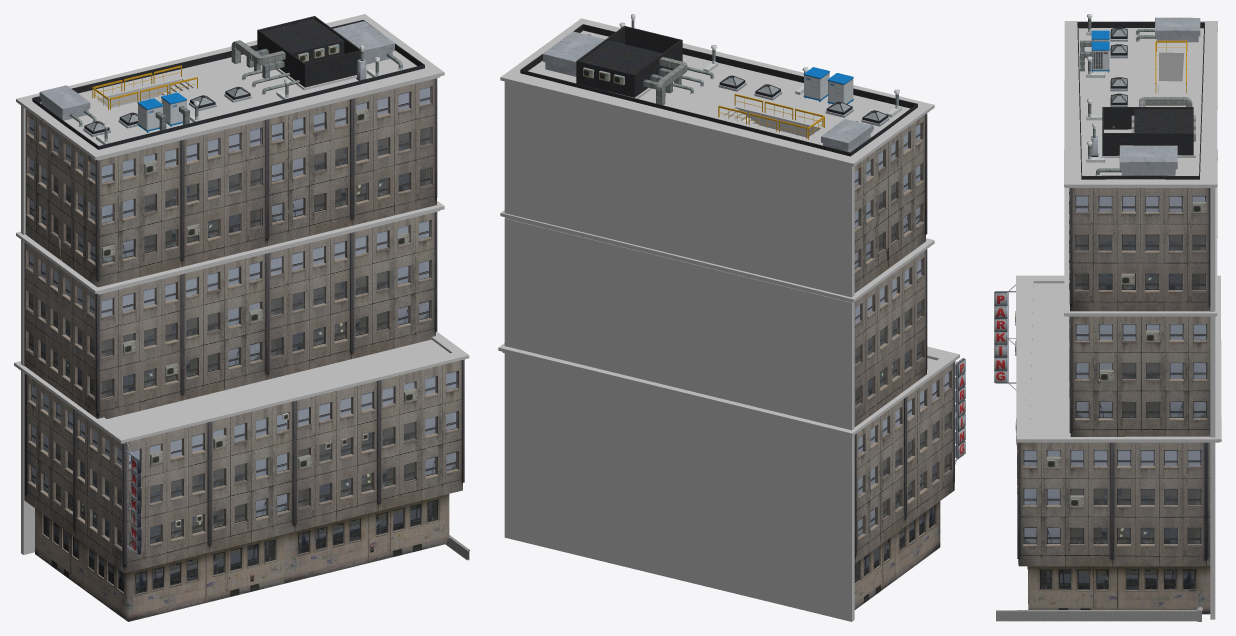
Rendered from u2NWBuild10.gltf.
The picture shows the model from 3 angles, left to right: view 1: azimuth 30°, elevation 25°; view 2: azimuth 150°, elevation 25°; view 3: azimuth 270°, elevation 25°; orthographic projection. The views are drawn at different scales.
Visible parts, largest first — view 1: u2NWBuild10; view 2: u2NWBuild10; view 3: u2NWBuild10.
Boxes of the visible parts, box(x1,y1,x2,y2) form: u2NWBuild10: box(14, 14, 469, 621); u2NWBuild10: box(498, 14, 965, 621); u2NWBuild10: box(994, 14, 1221, 621).
Size of the model in its own units: 12.97 by 17.42 by 7.6.
